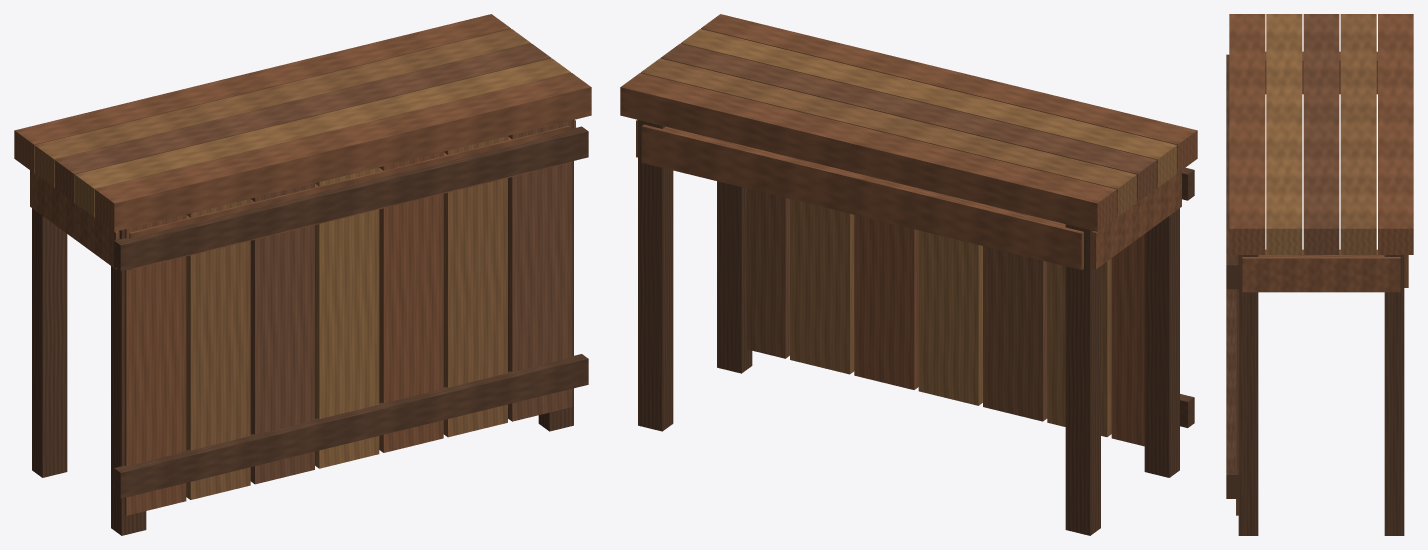
File: counter.glb
The picture shows the model from 3 angles, left to right: view 1: azimuth 30°, elevation 25°; view 2: azimuth 150°, elevation 25°; view 3: azimuth 270°, elevation 25°; orthographic projection. The views are drawn at different scales.
Parts seen in each view (by area): view 1: counter; view 2: counter; view 3: counter.
Boxes of the visible parts, x1,y1,x2,y2 form: counter: [14, 14, 591, 535]; counter: [620, 14, 1197, 535]; counter: [1226, 14, 1413, 535].
Size of the model in its own units: 1.47 by 1 by 0.5432.
Materials: 1 (1 with a texture image).
